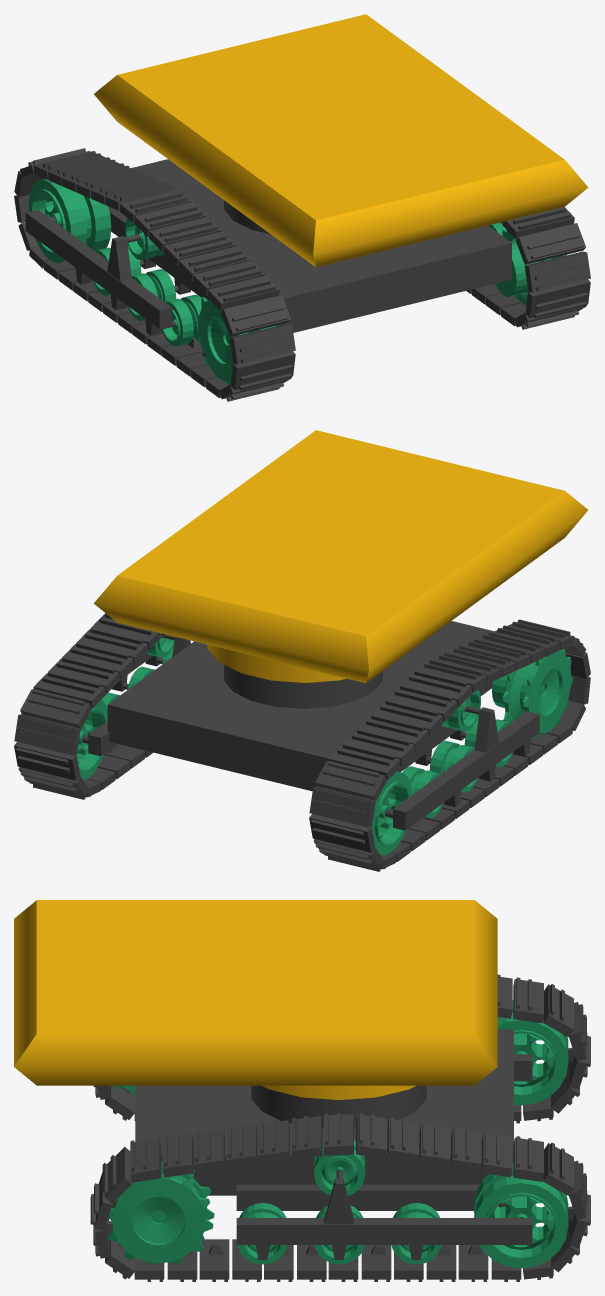
The model's file is excavator.fbx.
The picture shows the model from 3 angles, top to bottom: view 1: azimuth 30°, elevation 25°; view 2: azimuth 150°, elevation 25°; view 3: azimuth 270°, elevation 25°; orthographic projection. The views are drawn at different scales.
Visible parts, largest first — view 1: cabin, base, leftThread_15, rightThread_15, leftThread_33, rightThread_14, leftThread_31, rightThread_13, leftThread_16, rightThread_16, leftThread_17, leftThread_21 (+13 smaller); view 2: cabin, base, rightThread_30, leftThread_32, leftThread_14, rightThread_29, rightThread_31, leftThread_30, rightThread_28, leftThread_28, leftThread_24, rightThread_25 (+16 smaller); view 3: cabin, base, rightThread_16, rightThread_24, rightThread_25, rightThread_27, rightThread_17, rightThread_21, rightThread_19, rightThread_20, rightThread_22, leftThread_28 (+30 smaller).
Part boxes in pixels (bbox=[...]): cabin: bbox=[94, 14, 588, 267]; base: bbox=[25, 159, 566, 384]; leftThread_15: bbox=[220, 295, 290, 336]; rightThread_15: bbox=[515, 223, 586, 264]; leftThread_33: bbox=[229, 323, 295, 364]; rightThread_14: bbox=[524, 251, 590, 292]; leftThread_31: bbox=[230, 351, 295, 390]; rightThread_13: bbox=[525, 279, 590, 318]; leftThread_16: bbox=[207, 275, 279, 311]; rightThread_16: bbox=[502, 207, 574, 238]; leftThread_17: bbox=[192, 260, 264, 295]; leftThread_21: bbox=[134, 202, 206, 236]; cabin: bbox=[94, 430, 587, 683]; base: bbox=[76, 621, 573, 855]; rightThread_30: bbox=[14, 714, 80, 755]; leftThread_32: bbox=[309, 786, 375, 827]; leftThread_14: bbox=[315, 760, 387, 801]; rightThread_29: bbox=[20, 688, 91, 729]; rightThread_31: bbox=[14, 742, 80, 780]; leftThread_30: bbox=[309, 814, 375, 852]; rightThread_28: bbox=[33, 671, 105, 708]; leftThread_28: bbox=[328, 743, 400, 780]; leftThread_24: bbox=[385, 684, 457, 721]; rightThread_25: bbox=[76, 627, 148, 664]; cabin: bbox=[14, 900, 497, 1099]; base: bbox=[107, 1000, 568, 1268]; rightThread_16: bbox=[130, 1138, 161, 1182]; rightThread_24: bbox=[387, 1117, 418, 1163]; rightThread_25: bbox=[419, 1122, 450, 1167]; rightThread_27: bbox=[481, 1131, 512, 1177]; rightThread_17: bbox=[162, 1133, 193, 1177]; rightThread_21: bbox=[291, 1116, 322, 1159]; rightThread_19: bbox=[226, 1124, 257, 1168]; rightThread_20: bbox=[259, 1120, 289, 1164]; rightThread_22: bbox=[323, 1113, 353, 1155]; leftThread_28: bbox=[513, 977, 543, 1023].
Bounding box in the file's own units: 193 × 230 × 97.35.
